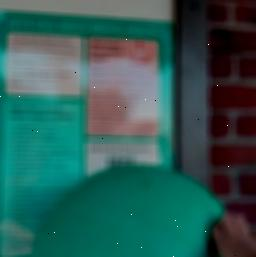algae: (28, 163, 246, 257)
